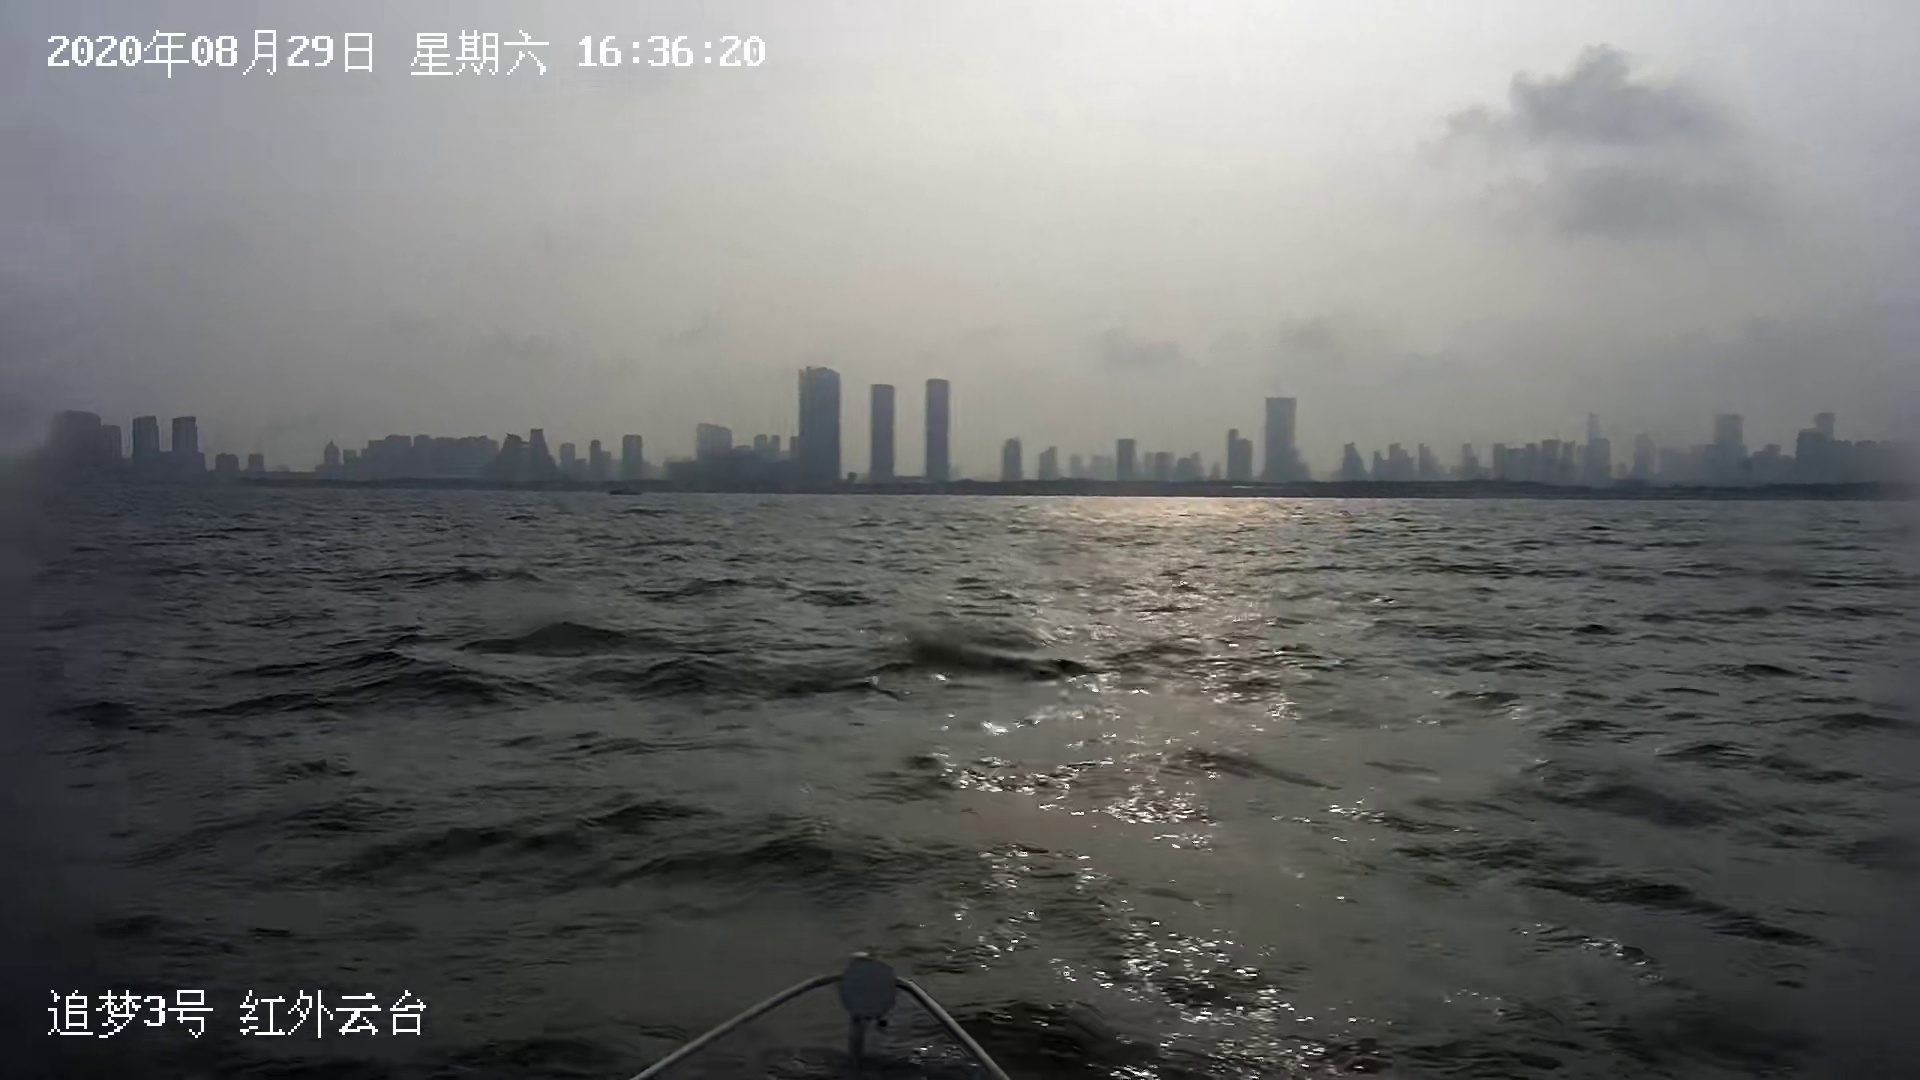coast: (24, 349, 1920, 505)
